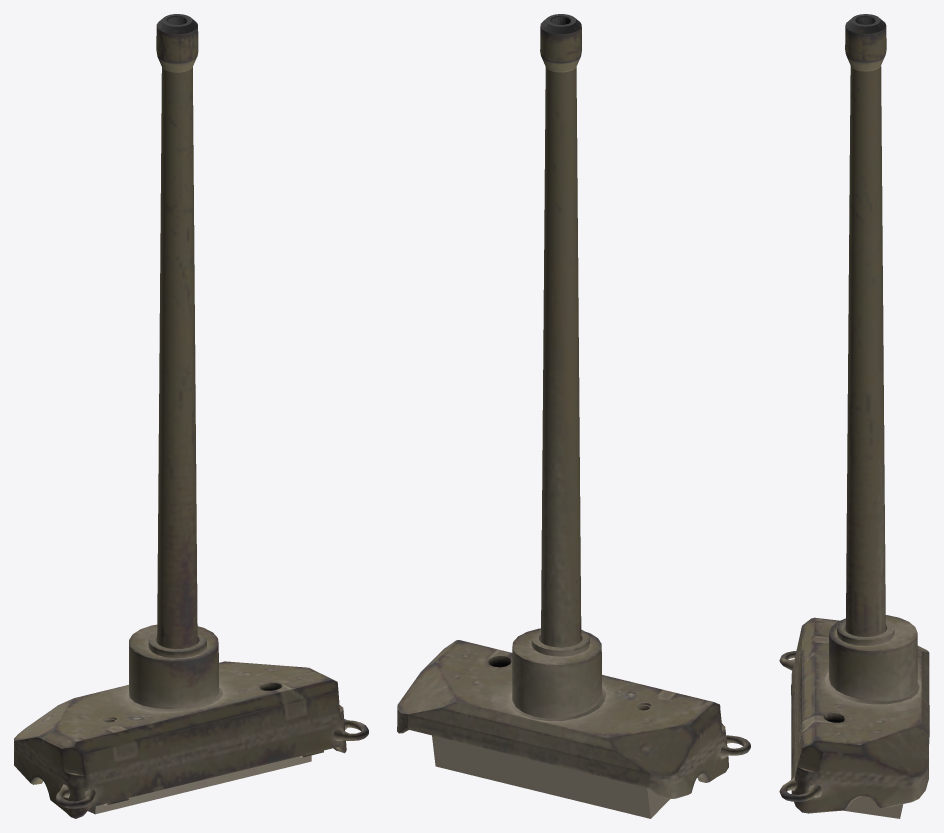
The model's file is Gun_02.glb.
3 renders of one model, left to right at view 1: azimuth 30°, elevation 25°; view 2: azimuth 150°, elevation 25°; view 3: azimuth 270°, elevation 25°, orthographic.
Parts seen in each view (by area): view 1: set_0_group_0; view 2: set_0_group_0; view 3: set_0_group_0.
Boxes of the visible parts, <box> form: set_0_group_0: <box>14,14,368,818</box>; set_0_group_0: <box>397,14,750,818</box>; set_0_group_0: <box>779,14,929,818</box>.
Size of the model in its own units: 1.35 by 3.18 by 0.5794.
Materials: 1 (1 with a texture image).
